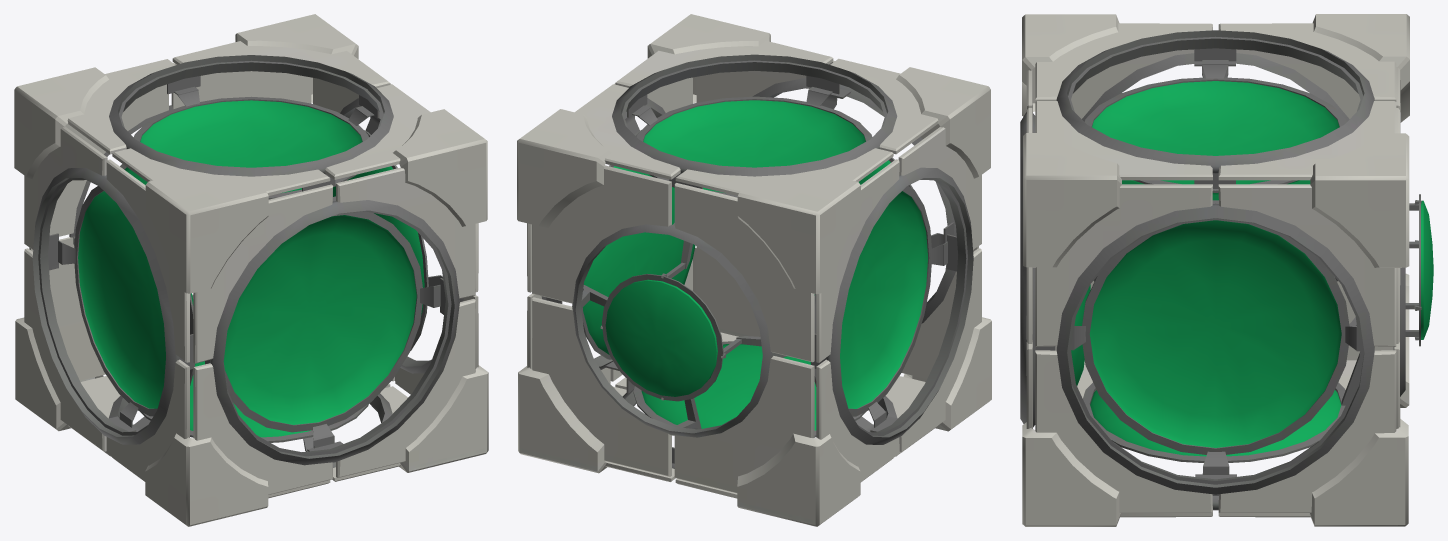
File: laser_cube.glb
3 views of the same model, side by side, from view 1: azimuth 30°, elevation 25°; view 2: azimuth 150°, elevation 25°; view 3: azimuth 270°, elevation 25° (orthographic). The views are drawn at different scales.
Visible parts, largest first — view 1: interactive; view 2: interactive; view 3: interactive.
Part boxes in pixels (x1,y1,x2,y2): interactive: (14, 14, 488, 526); interactive: (517, 14, 991, 526); interactive: (1020, 14, 1433, 526).
Bounding box in the file's own units: 0.6002 × 0.6002 × 0.6347.
Materials: 1 (1 with a texture image).
